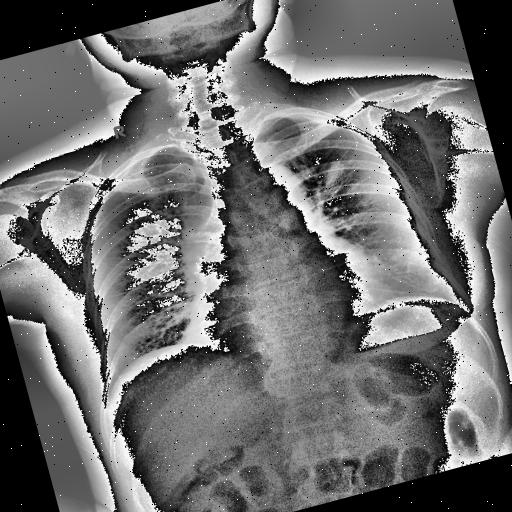0- Aortic enlargement: (245, 156, 311, 226)
13- Pulmonary fibrosis: (318, 154, 350, 192)
3- Cardiomegaly: (176, 234, 397, 358), (176, 239, 386, 363)
6- Infiltration: (314, 158, 358, 196), (320, 158, 350, 187)
9- Other lesion: (176, 208, 234, 282)
